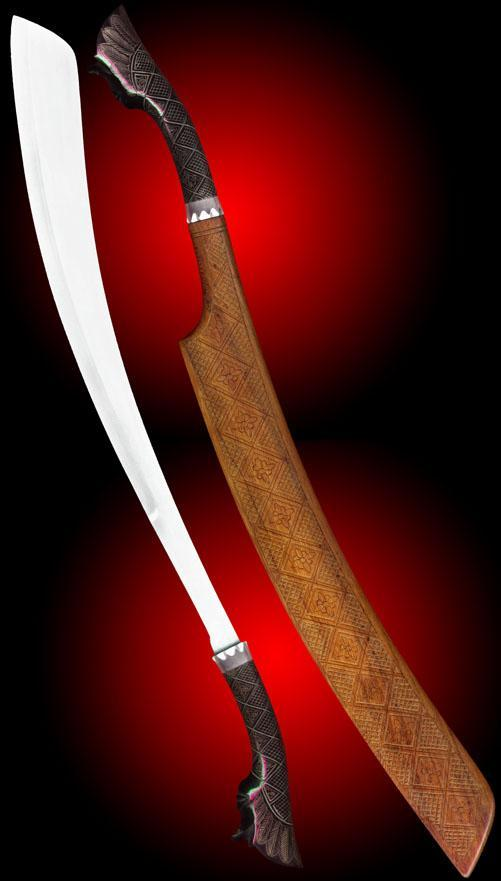facao: (0, 4, 318, 865)
